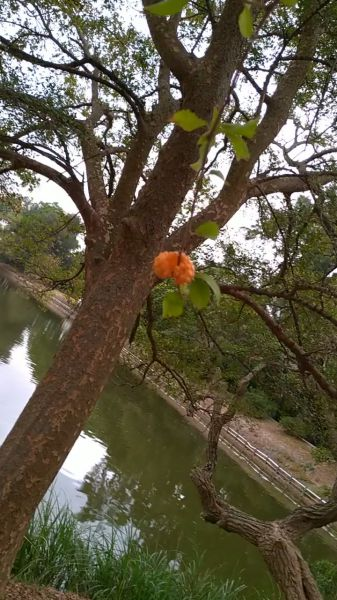eggs: (149, 246, 200, 291)
